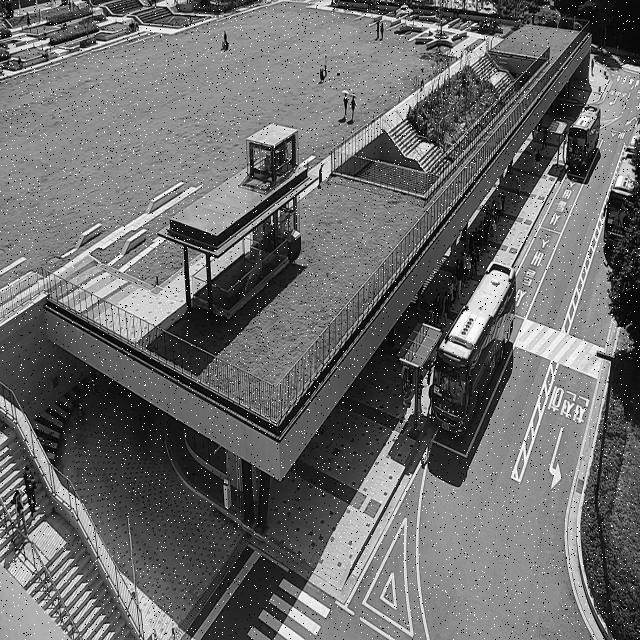queue: (404, 186, 507, 420)
